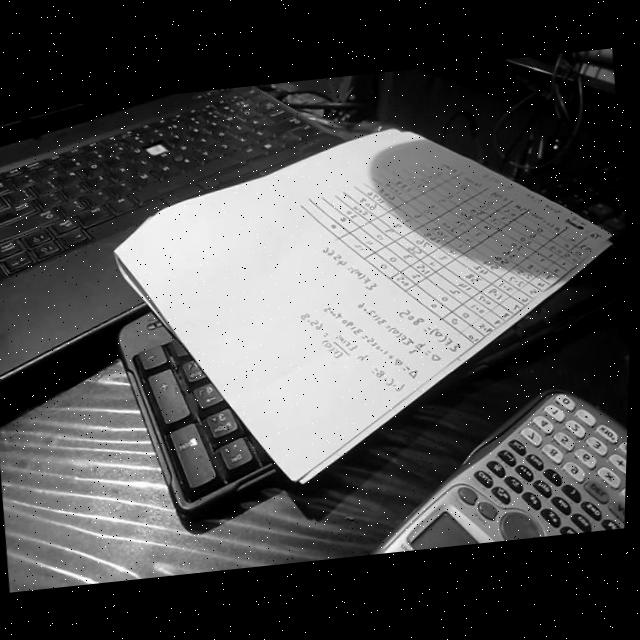document: (116, 128, 615, 483)
